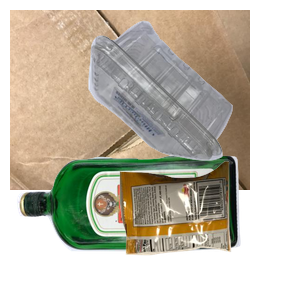cardboard: (10, 10, 250, 190)
glass: (14, 150, 247, 300)
plastic: (86, 18, 300, 171)
trash: (117, 159, 300, 300)
